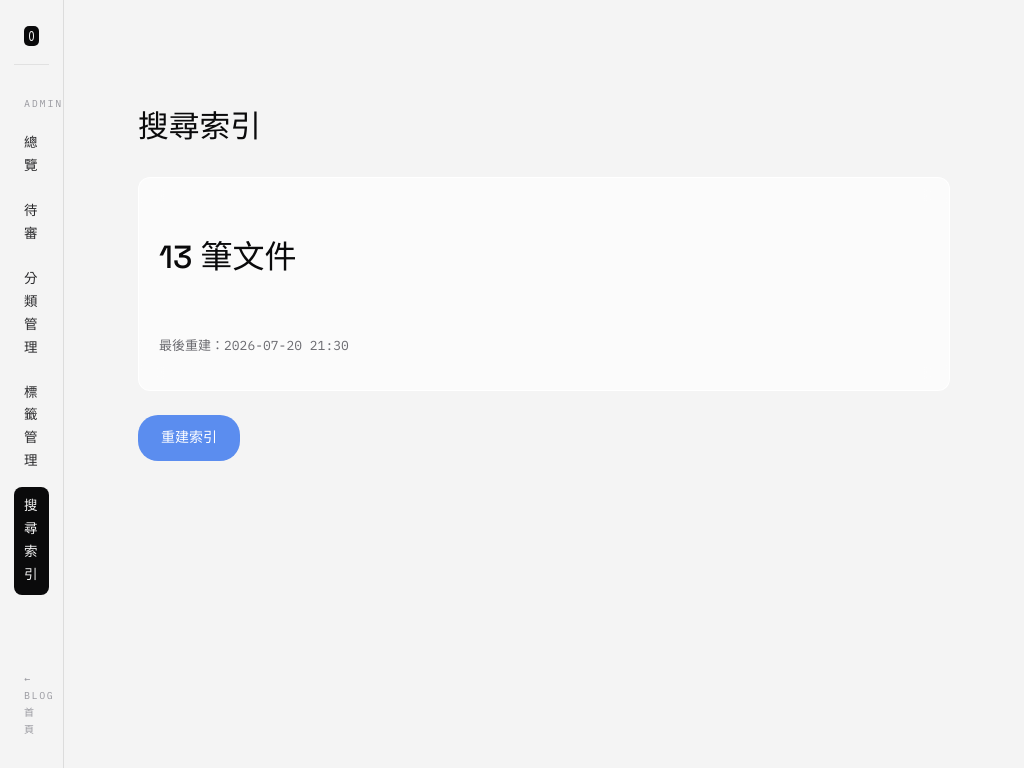
Test case: AdminSearchView（Task A9：搜尋索引頁實內容） › 重建索引流程 › 確認對話框點「取消」，不呼叫 API 且關閉對話框
Click the button with test id "admin-search-reindex-btn". click: (189, 438)
box: [138, 415, 240, 461]
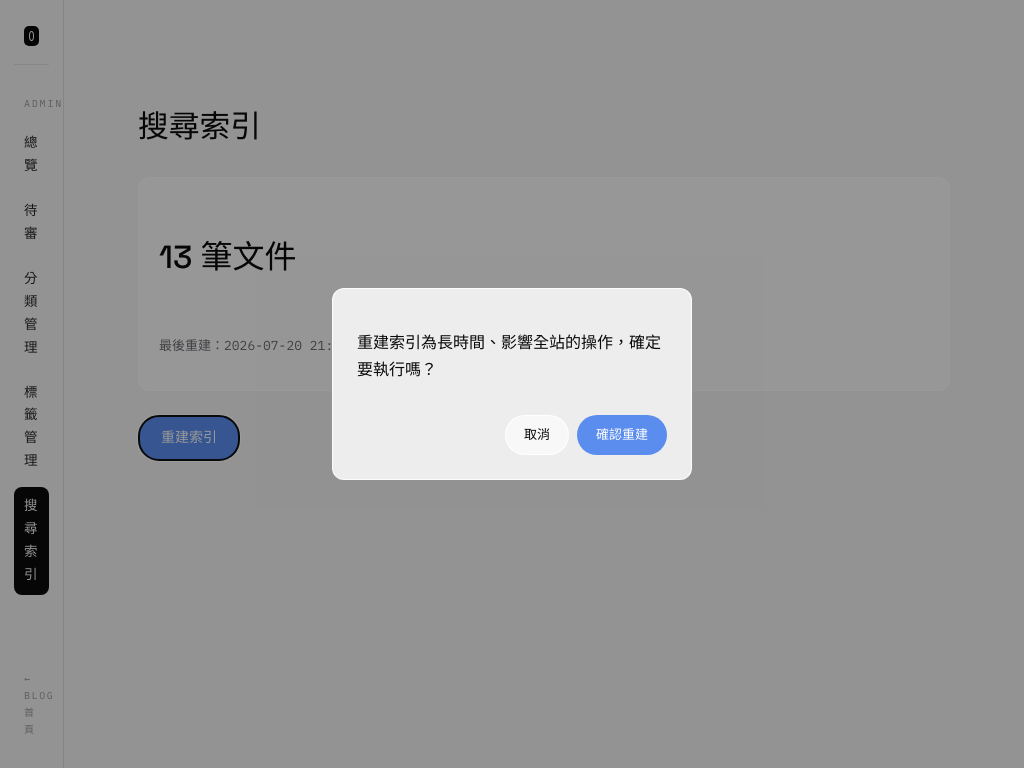
Click the button with test id "admin-search-confirm-cancel". click: (537, 435)
box: [505, 415, 569, 455]
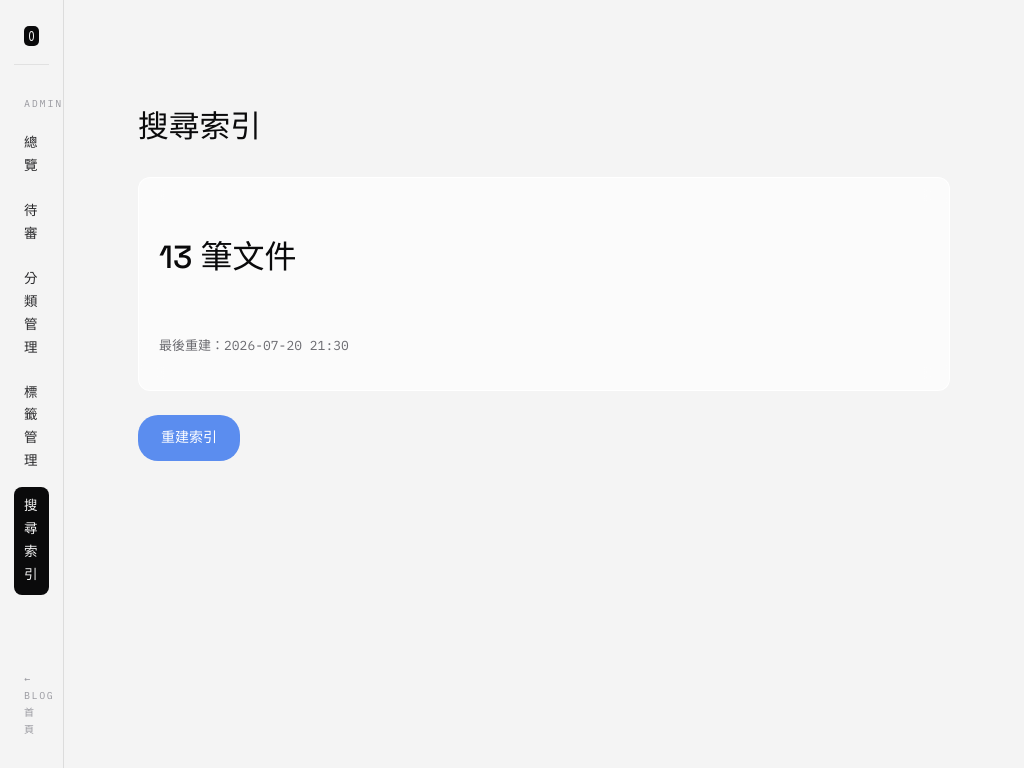
expect the element with test id "admin-search-confirm" is gone: met
